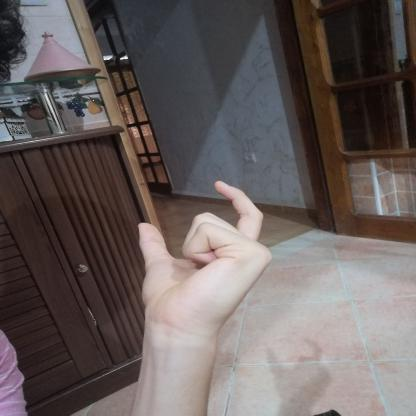NOON: (112, 169, 289, 346)
